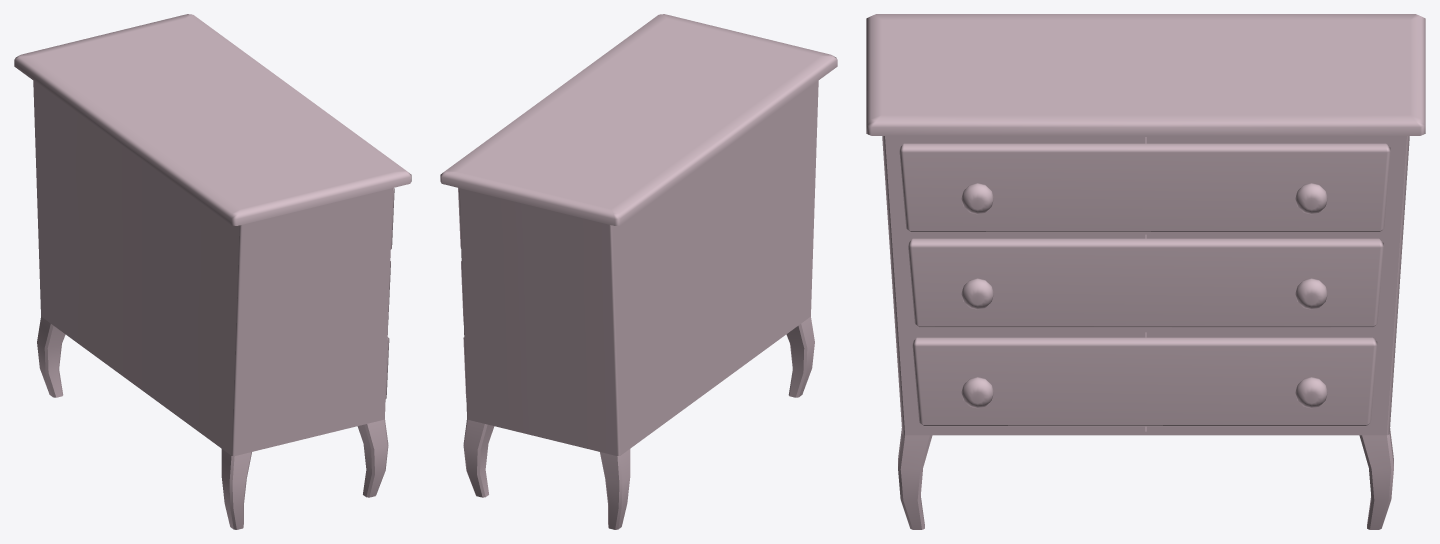
The model's file is SM_Room_Commode.fbx.
3 renders of one model, left to right at view 1: azimuth 30°, elevation 25°; view 2: azimuth 150°, elevation 25°; view 3: azimuth 270°, elevation 25°, orthographic. The views are drawn at different scales.
Parts seen in each view (by area): view 1: Commode; view 2: Commode; view 3: Commode, Tirroir_01, Tirroir_02, Tirroir_03.
Part boxes in pixels (bbox=[...]): Commode: bbox=[14, 14, 411, 529]; Commode: bbox=[440, 14, 837, 529]; Commode: bbox=[866, 14, 1425, 529]; Tirroir_01: bbox=[899, 136, 1390, 232]; Tirroir_02: bbox=[908, 235, 1383, 327]; Tirroir_03: bbox=[912, 332, 1377, 426].
Bounding box in the file's own units: 3.99 × 6.41 × 7.77.
